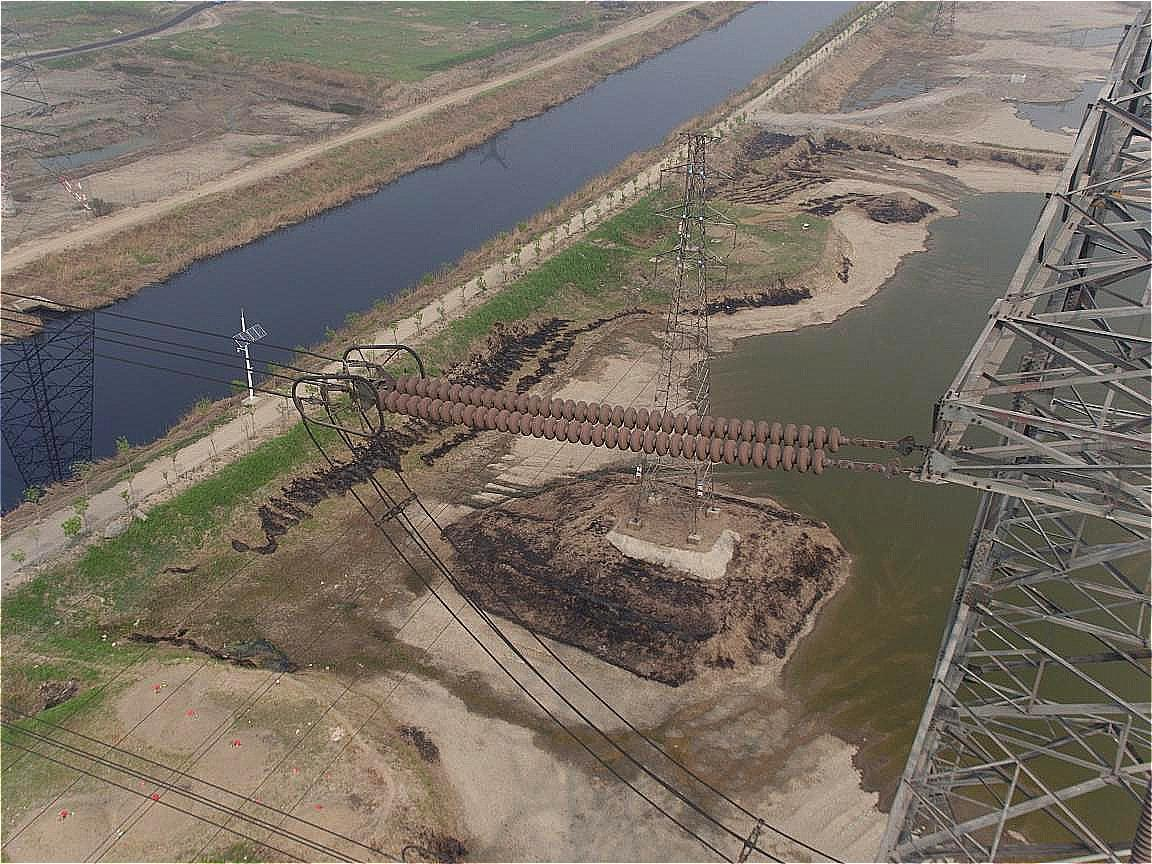insultor1: (378, 376, 845, 476)
